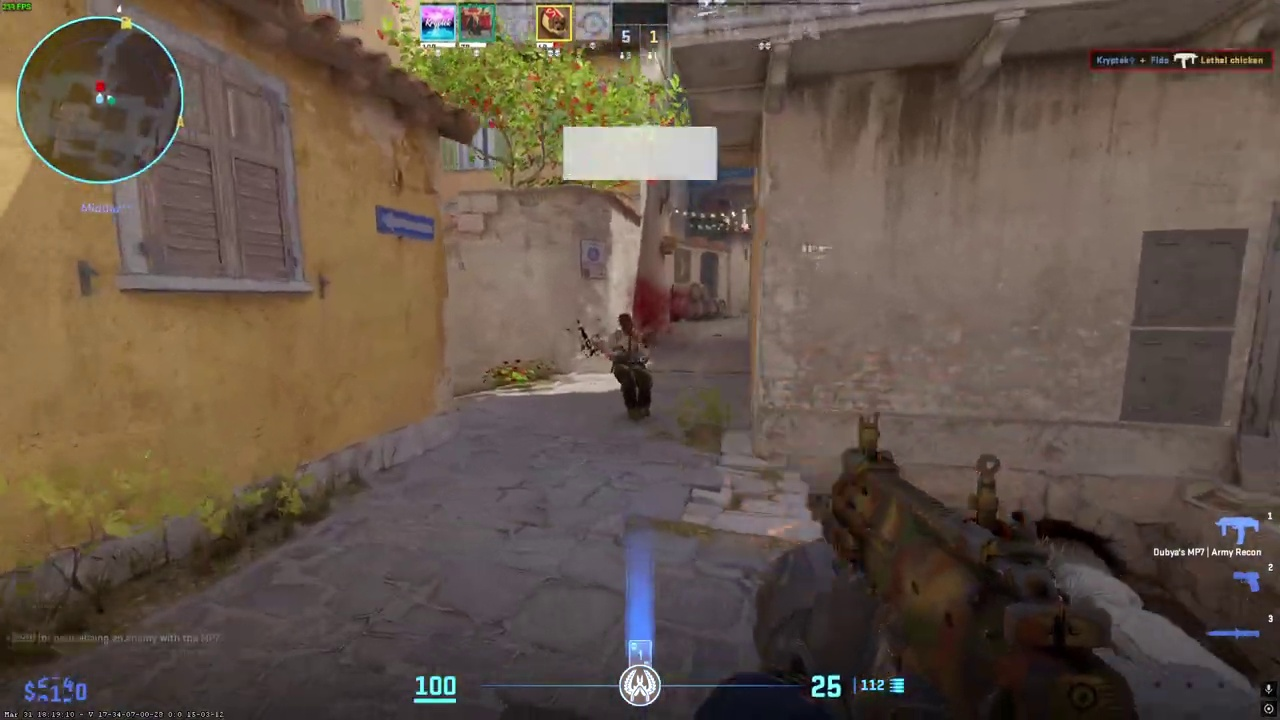Terrorist: (608, 313, 655, 422)
